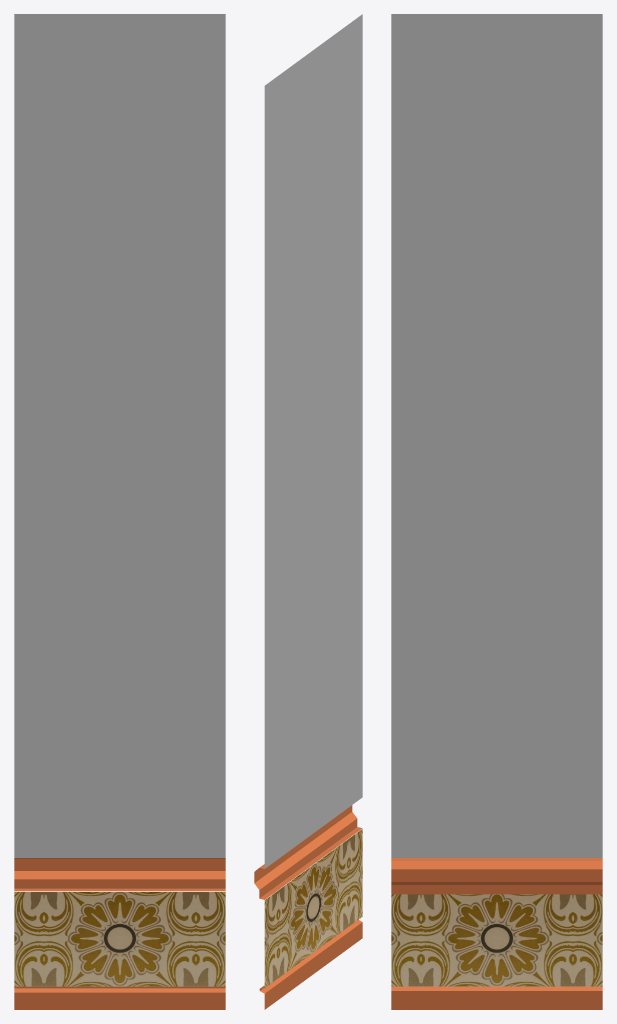
File: C_Mur.fbx
3 renders of one model, left to right at view 1: azimuth 90°, elevation 25°; view 2: azimuth 150°, elevation 25°; view 3: azimuth 270°, elevation 25°, orthographic. The views are drawn at different scales.
Parts seen in each view (by area): view 1: Plane.004; view 2: Plane.004; view 3: Plane.004.
Boxes of the visible parts, box(x1,y1,x2,y2) form: Plane.004: box(14, 14, 225, 1009); Plane.004: box(254, 14, 362, 1009); Plane.004: box(391, 14, 602, 1009).
Size of the model in its own units: 19.44 by 1650 by 317.
